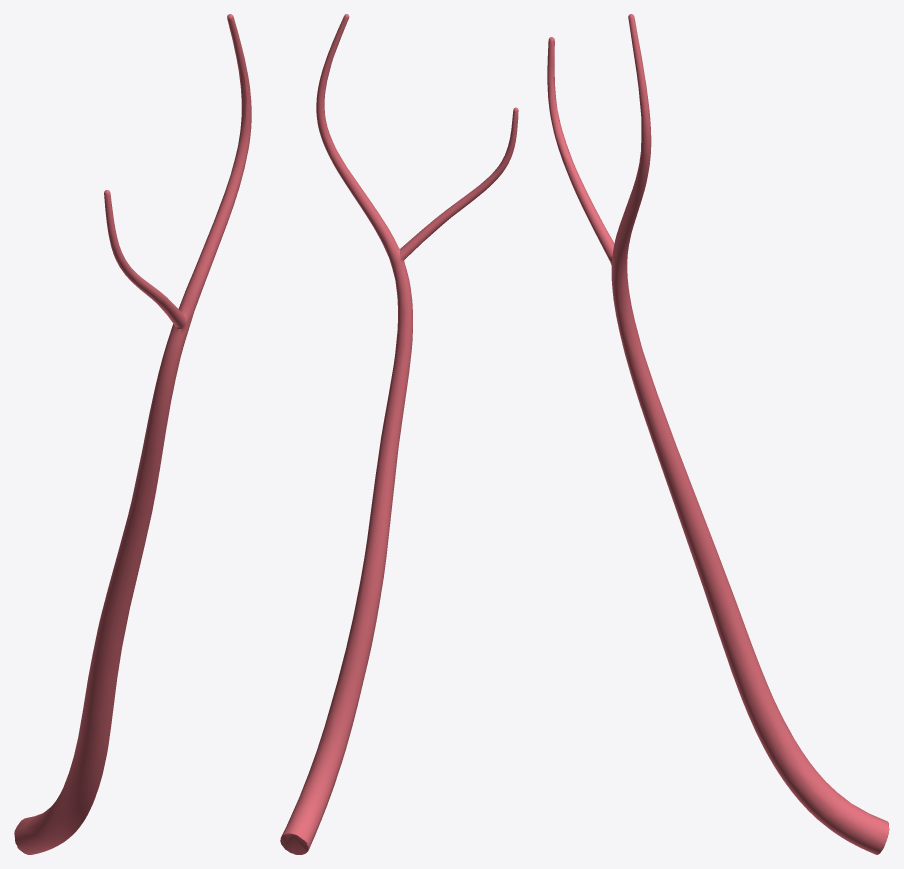
Rendered from fma20736_fj3529.glb.
3 renders of one model, left to right at view 1: azimuth 30°, elevation 25°; view 2: azimuth 150°, elevation 25°; view 3: azimuth 270°, elevation 25°, orthographic. The views are drawn at different scales.
Parts seen in each view (by area): view 1: FMA20736_FJ3529; view 2: FMA20736_FJ3529; view 3: FMA20736_FJ3529.
Boxes of the visible parts, x1,y1,x2,y2 form: FMA20736_FJ3529: [14, 14, 251, 854]; FMA20736_FJ3529: [280, 14, 518, 854]; FMA20736_FJ3529: [547, 14, 889, 854].
Size of the model in its own units: 0.0333 by 0.1485 by 0.0529.
